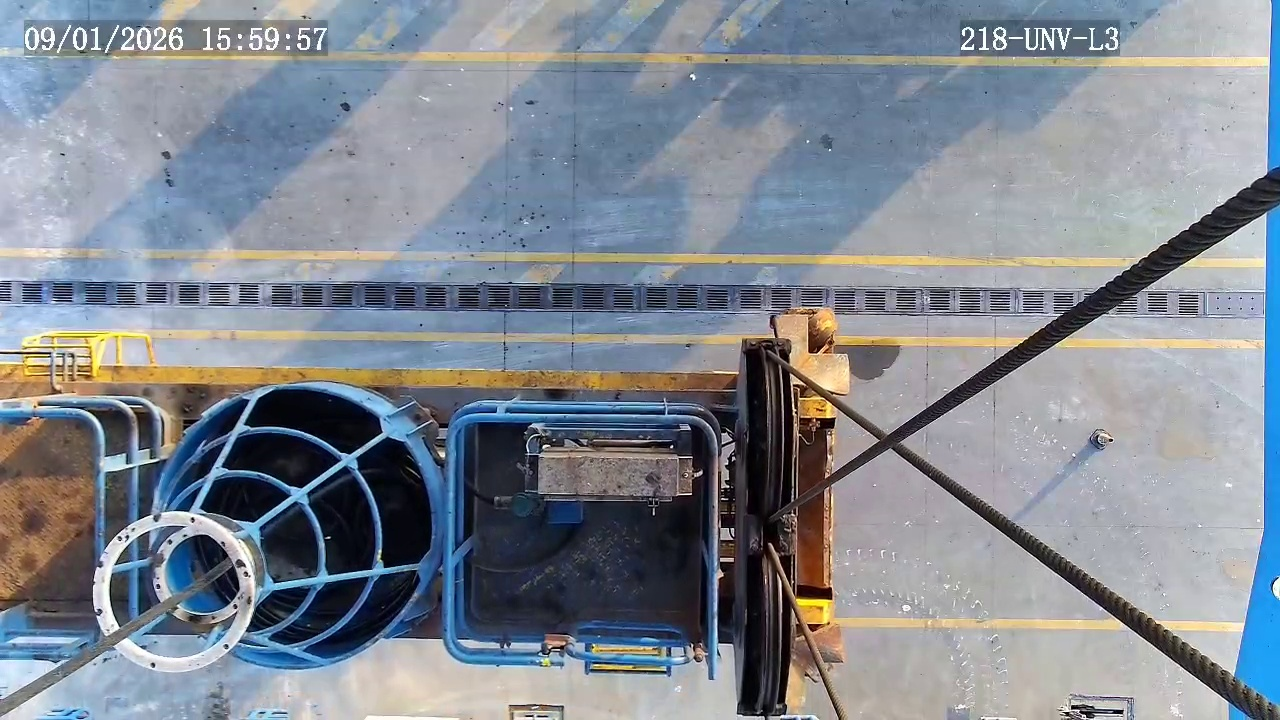right: (147, 386, 438, 669)
